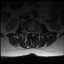CCS_normal: (32, 30, 34, 39)
LFS_severe_stenosis: (35, 30, 37, 34)
LLS_stenosis: (34, 30, 35, 35)
RFS_stenosis: (28, 30, 30, 34)
RLS_stenosis: (30, 30, 32, 35)
